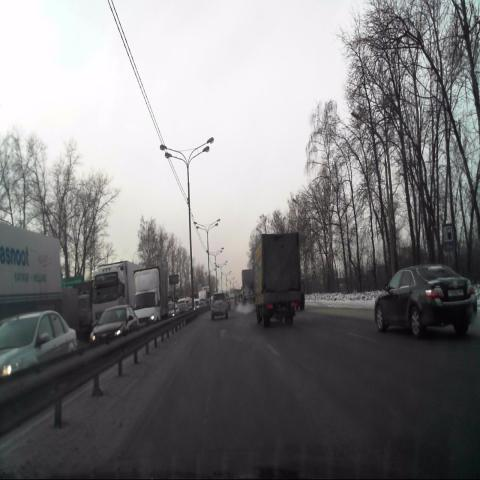7_6: (442, 223, 454, 252)
